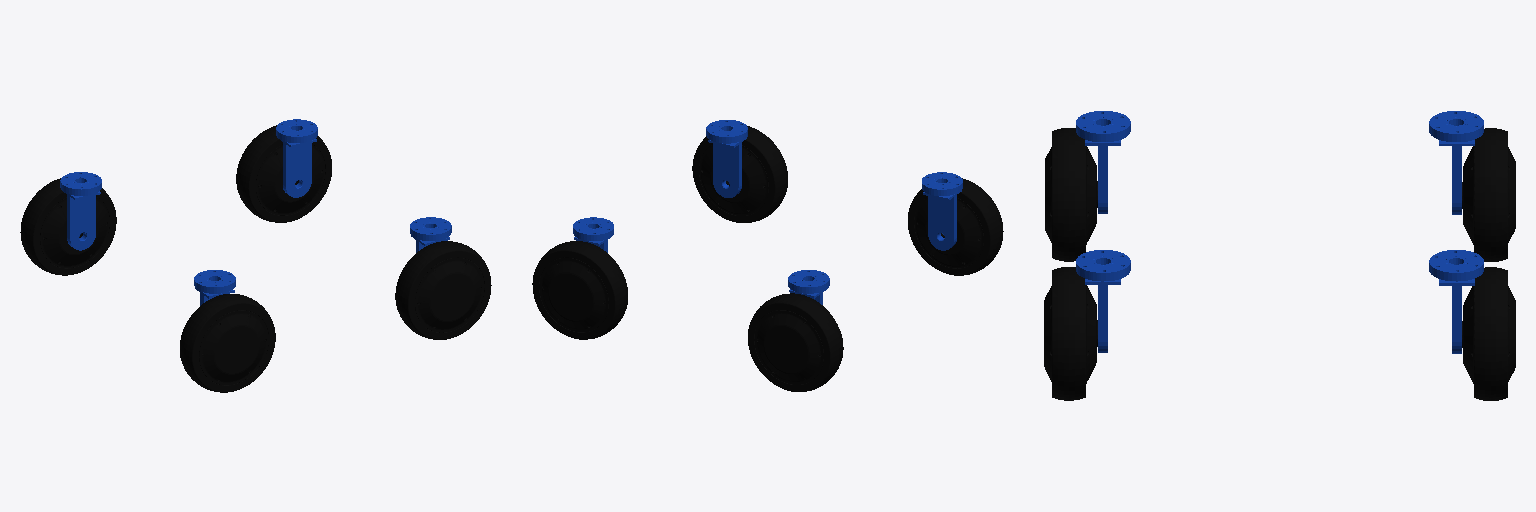
The robot description file, URDF, robot "mobile_base":
<?xml version="1.0" ?>
<!-- =================================================================================== -->
<!-- |    This document was autogenerated by xacro from /media/scc/Windows_D/AAA/mobile_base_ws/src/mobile_base_description/urdf/mobile_base.urdf.xacro | -->
<!-- |    EDITING THIS FILE BY HAND IS NOT RECOMMENDED                                 | -->
<!-- =================================================================================== -->
<robot name="mobile_base">
  <material name="chassis_blue">
    <color rgba="0.12 0.32 0.72 1.0"/>
  </material>
  <material name="wheel_dark">
    <color rgba="0.08 0.08 0.08 1.0"/>
  </material>
  <link name="base_link">
    <inertial>
      <origin rpy="0 0 0" xyz="-0.00034 -0.00200 0.08816"/>
      <mass value="4.6188"/>
      <inertia ixx="0.036984" ixy="0" ixz="0" iyy="0.028019" iyz="0" izz="0.062335"/>
    </inertial>
    <visual>
      <!-- Recenter CAD and convert its X/Y/Z convention to REP-103. -->
      <origin rpy="3.14159265 0 -1.57079633" xyz="0.236324 1.3581995 0.043774"/>
      <geometry>
        <mesh filename="package://mobile_base_description/meshes/chassis_4wis_cad/base_link.STL"/>
      </geometry>
      <material name="chassis_blue"/>
    </visual>
    <!-- Deliberately simple: triangle-mesh collision is too costly for MoveIt/Isaac. -->
    <collision>
      <origin rpy="0 0 0" xyz="0 0 0.0745"/>
      <geometry>
        <box size="0.620 0.580 0.197"/>
      </geometry>
    </collision>
  </link>
  <link name="front_left_steer_link">
    <inertial>
      <origin rpy="0 0 0" xyz="0 0 0.04"/>
      <mass value="0.11351"/>
      <inertia ixx="0.000064" ixy="0" ixz="0" iyy="0.000064" iyz="0" izz="0.000044"/>
    </inertial>
    <visual>
      <origin rpy="-1.570793 0 0.000004" xyz="0.026824 0.006400 0.040002"/>
      <geometry>
        <mesh filename="package://mobile_base_description/meshes/chassis_4wis_cad/front_left_steer_link.STL"/>
      </geometry>
      <material name="chassis_blue"/>
    </visual>
    <collision>
      <origin rpy="0 0 0" xyz="0 0 0.04"/>
      <geometry>
        <cylinder length="0.13" radius="0.045"/>
      </geometry>
    </collision>
  </link>
  <link name="front_left_wheel_link">
    <inertial>
      <origin rpy="0 0 0" xyz="0 0 0"/>
      <mass value="1.1612"/>
      <inertia ixx="0.0022" ixy="0" ixz="0" iyy="0.0040" iyz="0" izz="0.0022"/>
    </inertial>
    <visual>
      <origin rpy="-2.090503 0 1.570789" xyz="0.117174 1.484790 0.000012"/>
      <geometry>
        <mesh filename="package://mobile_base_description/meshes/chassis_4wis_cad/rear_left_wheel_link.STL"/>
      </geometry>
      <material name="wheel_dark"/>
    </visual>
    <collision>
      <origin rpy="1.57079632679 0 0" xyz="0 0 0"/>
      <geometry>
        <cylinder length="0.0683" radius="0.0855"/>
      </geometry>
    </collision>
  </link>
  <joint name="front_left_steer_joint" type="revolute">
    <parent link="base_link"/>
    <child link="front_left_steer_link"/>
    <origin rpy="0 0 0" xyz="0.2095 0.2250 0"/>
    <axis xyz="0 0 1"/>
    <limit effort="100" lower="-1.5707963267948966" upper="1.5707963267948966" velocity="0.5"/>
  </joint>
  <joint name="front_left_drive_joint" type="continuous">
    <parent link="front_left_steer_link"/>
    <child link="front_left_wheel_link"/>
    <!-- CAD has an approximately 43 mm kingpin-to-wheel-centre offset. -->
    <origin rpy="0 0 0" xyz="0 0.043 0"/>
    <axis xyz="0 1 0"/>
  </joint>
  <link name="front_right_steer_link">
    <inertial>
      <origin rpy="0 0 0" xyz="0 0 0.04"/>
      <mass value="0.11351"/>
      <inertia ixx="0.000064" ixy="0" ixz="0" iyy="0.000064" iyz="0" izz="0.000044"/>
    </inertial>
    <visual>
      <origin rpy="0.000007 0 -0.474296" xyz="0.026824 0 0.090002"/>
      <geometry>
        <mesh filename="package://mobile_base_description/meshes/chassis_4wis_cad/front_right_steer_link.STL"/>
      </geometry>
      <material name="chassis_blue"/>
    </visual>
    <collision>
      <origin rpy="0 0 0" xyz="0 0 0.04"/>
      <geometry>
        <cylinder length="0.13" radius="0.045"/>
      </geometry>
    </collision>
  </link>
  <link name="front_right_wheel_link">
    <inertial>
      <origin rpy="0 0 0" xyz="0 0 0"/>
      <mass value="1.1612"/>
      <inertia ixx="0.0022" ixy="0" ixz="0" iyy="0.0040" iyz="0" izz="0.0022"/>
    </inertial>
    <visual>
      <origin rpy="-2.090497 0.000007 -1.570796" xyz="0.115969 -1.484756 -0.000008"/>
      <geometry>
        <mesh filename="package://mobile_base_description/meshes/chassis_4wis_cad/front_right_wheel_link.STL"/>
      </geometry>
      <material name="wheel_dark"/>
    </visual>
    <collision>
      <origin rpy="1.57079632679 0 0" xyz="0 0 0"/>
      <geometry>
        <cylinder length="0.0683" radius="0.0855"/>
      </geometry>
    </collision>
  </link>
  <joint name="front_right_steer_joint" type="revolute">
    <parent link="base_link"/>
    <child link="front_right_steer_link"/>
    <origin rpy="0 0 0" xyz="0.2095 -0.2250 0"/>
    <axis xyz="0 0 1"/>
    <limit effort="100" lower="-1.5707963267948966" upper="1.5707963267948966" velocity="0.5"/>
  </joint>
  <joint name="front_right_drive_joint" type="continuous">
    <parent link="front_right_steer_link"/>
    <child link="front_right_wheel_link"/>
    <!-- CAD has an approximately 43 mm kingpin-to-wheel-centre offset. -->
    <origin rpy="0 0 0" xyz="0 -0.043 0"/>
    <axis xyz="0 1 0"/>
  </joint>
  <link name="rear_left_steer_link">
    <inertial>
      <origin rpy="0 0 0" xyz="0 0 0.04"/>
      <mass value="0.11351"/>
      <inertia ixx="0.000064" ixy="0" ixz="0" iyy="0.000064" iyz="0" izz="0.000044"/>
    </inertial>
    <visual>
      <origin rpy="-0.000007 0 2.667289" xyz="0.046974 0 0.090002"/>
      <geometry>
        <mesh filename="package://mobile_base_description/meshes/chassis_4wis_cad/rear_left_steer_link.STL"/>
      </geometry>
      <material name="chassis_blue"/>
    </visual>
    <collision>
      <origin rpy="0 0 0" xyz="0 0 0.04"/>
      <geometry>
        <cylinder length="0.13" radius="0.045"/>
      </geometry>
    </collision>
  </link>
  <link name="rear_left_wheel_link">
    <inertial>
      <origin rpy="0 0 0" xyz="0 0 0"/>
      <mass value="1.1612"/>
      <inertia ixx="0.0022" ixy="0" ixz="0" iyy="0.0040" iyz="0" izz="0.0022"/>
    </inertial>
    <visual>
      <origin rpy="-2.090503 0 1.570789" xyz="0.117174 1.484790 0.000012"/>
      <geometry>
        <mesh filename="package://mobile_base_description/meshes/chassis_4wis_cad/rear_left_wheel_link.STL"/>
      </geometry>
      <material name="wheel_dark"/>
    </visual>
    <collision>
      <origin rpy="1.57079632679 0 0" xyz="0 0 0"/>
      <geometry>
        <cylinder length="0.0683" radius="0.0855"/>
      </geometry>
    </collision>
  </link>
  <joint name="rear_left_steer_joint" type="revolute">
    <parent link="base_link"/>
    <child link="rear_left_steer_link"/>
    <origin rpy="0 0 0" xyz="-0.2095 0.2250 0"/>
    <axis xyz="0 0 1"/>
    <limit effort="100" lower="-1.5707963267948966" upper="1.5707963267948966" velocity="0.5"/>
  </joint>
  <joint name="rear_left_drive_joint" type="continuous">
    <parent link="rear_left_steer_link"/>
    <child link="rear_left_wheel_link"/>
    <!-- CAD has an approximately 43 mm kingpin-to-wheel-centre offset. -->
    <origin rpy="0 0 0" xyz="0 0.043 0"/>
    <axis xyz="0 1 0"/>
  </joint>
  <link name="rear_right_steer_link">
    <inertial>
      <origin rpy="0 0 0" xyz="0 0 0.04"/>
      <mass value="0.11351"/>
      <inertia ixx="0.000064" ixy="0" ixz="0" iyy="0.000064" iyz="0" izz="0.000044"/>
    </inertial>
    <visual>
      <origin rpy="0.000007 0 -0.474296" xyz="0.046974 0 0.090002"/>
      <geometry>
        <mesh filename="package://mobile_base_description/meshes/chassis_4wis_cad/rear_right_steer_link.STL"/>
      </geometry>
      <material name="chassis_blue"/>
    </visual>
    <collision>
      <origin rpy="0 0 0" xyz="0 0 0.04"/>
      <geometry>
        <cylinder length="0.13" radius="0.045"/>
      </geometry>
    </collision>
  </link>
  <link name="rear_right_wheel_link">
    <inertial>
      <origin rpy="0 0 0" xyz="0 0 0"/>
      <mass value="1.1612"/>
      <inertia ixx="0.0022" ixy="0" ixz="0" iyy="0.0040" iyz="0" izz="0.0022"/>
    </inertial>
    <visual>
      <origin rpy="-2.090497 0.000007 -1.570796" xyz="0.115922 -1.484729 -0.000008"/>
      <geometry>
        <mesh filename="package://mobile_base_description/meshes/chassis_4wis_cad/rear_right_wheel_link.STL"/>
      </geometry>
      <material name="wheel_dark"/>
    </visual>
    <collision>
      <origin rpy="1.57079632679 0 0" xyz="0 0 0"/>
      <geometry>
        <cylinder length="0.0683" radius="0.0855"/>
      </geometry>
    </collision>
  </link>
  <joint name="rear_right_steer_joint" type="revolute">
    <parent link="base_link"/>
    <child link="rear_right_steer_link"/>
    <origin rpy="0 0 0" xyz="-0.2095 -0.2250 0"/>
    <axis xyz="0 0 1"/>
    <limit effort="100" lower="-1.5707963267948966" upper="1.5707963267948966" velocity="0.5"/>
  </joint>
  <joint name="rear_right_drive_joint" type="continuous">
    <parent link="rear_right_steer_link"/>
    <child link="rear_right_wheel_link"/>
    <!-- CAD has an approximately 43 mm kingpin-to-wheel-centre offset. -->
    <origin rpy="0 0 0" xyz="0 -0.043 0"/>
    <axis xyz="0 1 0"/>
  </joint>
  <ros2_control name="mobile_base_system" type="system">
    <hardware>
      <plugin>mock_components/GenericSystem</plugin>
      <param name="calculate_dynamics">true</param>
    </hardware>
    <joint name="front_left_steer_joint">
      <command_interface name="position">
        <param name="min">-1.5707963267948966</param>
        <param name="max">1.5707963267948966</param>
      </command_interface>
      <state_interface name="position"/>
      <state_interface name="velocity"/>
      <state_interface name="effort"/>
      <param name="kind">steering</param>
      <param name="motor_model">DM-J4340P-2EC-24V</param>
      <param name="motor_id">0x01</param>
      <param name="master_id">0x11</param>
      <param name="direction">1</param>
      <param name="offset_rad">0</param>
      <!-- xout(0x51) 是输出轴编码器直接测得的单圈绝对位置。 -->
      <param name="use_absolute_output_encoder">true</param>
      <param name="absolute_position_register">0x51</param>
      <!-- 初次上机默认 0.5 rad/s；实际值由 chassis.yaml 为每个轮组配置。 -->
      <param name="command_velocity_rad_s">0.5</param>
    </joint>
    <joint name="front_right_steer_joint">
      <command_interface name="position">
        <param name="min">-1.5707963267948966</param>
        <param name="max">1.5707963267948966</param>
      </command_interface>
      <state_interface name="position"/>
      <state_interface name="velocity"/>
      <state_interface name="effort"/>
      <param name="kind">steering</param>
      <param name="motor_model">DM-J4340P-2EC-24V</param>
      <param name="motor_id">0x02</param>
      <param name="master_id">0x12</param>
      <param name="direction">1</param>
      <param name="offset_rad">0</param>
      <!-- xout(0x51) 是输出轴编码器直接测得的单圈绝对位置。 -->
      <param name="use_absolute_output_encoder">true</param>
      <param name="absolute_position_register">0x51</param>
      <!-- 初次上机默认 0.5 rad/s；实际值由 chassis.yaml 为每个轮组配置。 -->
      <param name="command_velocity_rad_s">0.5</param>
    </joint>
    <joint name="rear_left_steer_joint">
      <command_interface name="position">
        <param name="min">-1.5707963267948966</param>
        <param name="max">1.5707963267948966</param>
      </command_interface>
      <state_interface name="position"/>
      <state_interface name="velocity"/>
      <state_interface name="effort"/>
      <param name="kind">steering</param>
      <param name="motor_model">DM-J4340P-2EC-24V</param>
      <param name="motor_id">0x03</param>
      <param name="master_id">0x13</param>
      <param name="direction">1</param>
      <param name="offset_rad">0</param>
      <!-- xout(0x51) 是输出轴编码器直接测得的单圈绝对位置。 -->
      <param name="use_absolute_output_encoder">true</param>
      <param name="absolute_position_register">0x51</param>
      <!-- 初次上机默认 0.5 rad/s；实际值由 chassis.yaml 为每个轮组配置。 -->
      <param name="command_velocity_rad_s">0.5</param>
    </joint>
    <joint name="rear_right_steer_joint">
      <command_interface name="position">
        <param name="min">-1.5707963267948966</param>
        <param name="max">1.5707963267948966</param>
      </command_interface>
      <state_interface name="position"/>
      <state_interface name="velocity"/>
      <state_interface name="effort"/>
      <param name="kind">steering</param>
      <param name="motor_model">DM-J4340P-2EC-24V</param>
      <param name="motor_id">0x04</param>
      <param name="master_id">0x14</param>
      <param name="direction">1</param>
      <param name="offset_rad">0</param>
      <!-- xout(0x51) 是输出轴编码器直接测得的单圈绝对位置。 -->
      <param name="use_absolute_output_encoder">true</param>
      <param name="absolute_position_register">0x51</param>
      <!-- 初次上机默认 0.5 rad/s；实际值由 chassis.yaml 为每个轮组配置。 -->
      <param name="command_velocity_rad_s">0.5</param>
    </joint>
    <joint name="front_left_drive_joint">
      <command_interface name="velocity"/>
      <state_interface name="position"/>
      <state_interface name="velocity"/>
      <state_interface name="effort"/>
      <param name="kind">drive</param>
      <param name="node_id">1</param>
      <param name="channel">1</param>
      <param name="direction">1</param>
      <param name="gear_ratio">1</param>
      <param name="max_motor_rpm">1000</param>
      <param name="command_units_per_rpm">1.0</param>
      <param name="feedback_rpm_per_unit">0.1</param>
    </joint>
    <joint name="front_right_drive_joint">
      <command_interface name="velocity"/>
      <state_interface name="position"/>
      <state_interface name="velocity"/>
      <state_interface name="effort"/>
      <param name="kind">drive</param>
      <param name="node_id">1</param>
      <param name="channel">2</param>
      <param name="direction">-1</param>
      <param name="gear_ratio">1</param>
      <param name="max_motor_rpm">1000</param>
      <param name="command_units_per_rpm">1.0</param>
      <param name="feedback_rpm_per_unit">0.1</param>
    </joint>
    <joint name="rear_left_drive_joint">
      <command_interface name="velocity"/>
      <state_interface name="position"/>
      <state_interface name="velocity"/>
      <state_interface name="effort"/>
      <param name="kind">drive</param>
      <param name="node_id">2</param>
      <param name="channel">1</param>
      <param name="direction">1</param>
      <param name="gear_ratio">1</param>
      <param name="max_motor_rpm">1000</param>
      <param name="command_units_per_rpm">1.0</param>
      <param name="feedback_rpm_per_unit">0.1</param>
    </joint>
    <joint name="rear_right_drive_joint">
      <command_interface name="velocity"/>
      <state_interface name="position"/>
      <state_interface name="velocity"/>
      <state_interface name="effort"/>
      <param name="kind">drive</param>
      <param name="node_id">2</param>
      <param name="channel">2</param>
      <param name="direction">-1</param>
      <param name="gear_ratio">1</param>
      <param name="max_motor_rpm">1000</param>
      <param name="command_units_per_rpm">1.0</param>
      <param name="feedback_rpm_per_unit">0.1</param>
    </joint>
  </ros2_control>
</robot>

--- What the picture shows (computed from the rendered views, not written in the file) ---
Views: 3 orthographic renders of the robot side by side, from view 1: azimuth 30°, elevation 25°; view 2: azimuth 150°, elevation 25°; view 3: azimuth 270°, elevation 25°.
Model mobile_base with 9 links and 8 joints (4 revolute, 4 continuous), rooted at base_link, posed every joint at zero.
Links seen in each view (by area): view 1: front_right_wheel_link, rear_right_wheel_link, front_left_wheel_link, rear_left_wheel_link, front_left_steer_link, rear_left_steer_link, rear_right_steer_link, front_right_steer_link; view 2: front_left_wheel_link, rear_left_wheel_link, front_right_wheel_link, rear_right_wheel_link, front_right_steer_link, rear_right_steer_link, rear_left_steer_link, front_left_steer_link; view 3: front_left_wheel_link, front_right_wheel_link, rear_left_wheel_link, rear_right_wheel_link, front_left_steer_link, rear_left_steer_link, front_right_steer_link, rear_right_steer_link.
Link boxes in pixels (box(x1,y1,x2,y2)): front_right_wheel_link: box(395, 241, 491, 339); rear_right_wheel_link: box(180, 294, 275, 392); front_left_wheel_link: box(236, 125, 331, 222); rear_left_wheel_link: box(20, 178, 116, 275); front_left_steer_link: box(276, 119, 317, 197); rear_left_steer_link: box(60, 172, 101, 250); rear_right_steer_link: box(194, 270, 235, 305); front_right_steer_link: box(410, 217, 451, 252); front_left_wheel_link: box(532, 241, 627, 339); rear_left_wheel_link: box(748, 293, 843, 391); front_right_wheel_link: box(692, 126, 787, 222); rear_right_wheel_link: box(908, 178, 1003, 275); front_right_steer_link: box(706, 120, 747, 197); rear_right_steer_link: box(922, 172, 962, 250); rear_left_steer_link: box(788, 270, 829, 304); front_left_steer_link: box(573, 217, 613, 252); front_left_wheel_link: box(1462, 267, 1515, 400); front_right_wheel_link: box(1044, 267, 1097, 400); rear_left_wheel_link: box(1462, 128, 1515, 261); rear_right_wheel_link: box(1045, 128, 1097, 261); front_left_steer_link: box(1429, 250, 1483, 353); rear_left_steer_link: box(1429, 111, 1483, 214); front_right_steer_link: box(1076, 250, 1130, 352); rear_right_steer_link: box(1076, 111, 1130, 213).
Size in the robot's own frame: 0.5912 by 0.6 by 0.1877 metres.
Meshes: 8 distinct files referenced, 8 mesh visuals loaded (7 binary STL); not drawn: 1 (reference not matched to a file when rendering).
